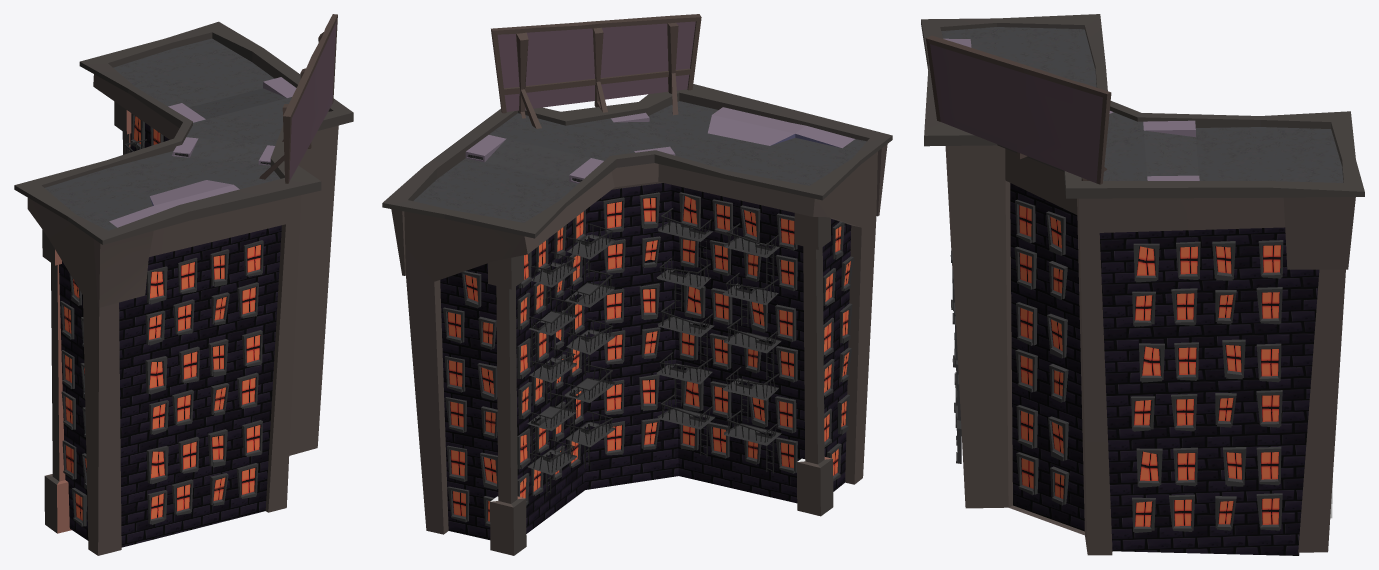
Rendered from hecks_kitchen_tile_nunchucks.fbx.
3 views of the same model, side by side, from view 1: azimuth 30°, elevation 25°; view 2: azimuth 150°, elevation 25°; view 3: azimuth 270°, elevation 25° (orthographic). The views are drawn at different scales.
Parts seen in each view (by area): view 1: hecks_kitchen_tile_nunchucks; view 2: hecks_kitchen_tile_nunchucks, Hecks_Kitchen_Tile_Nunchucks_FireEscapes; view 3: hecks_kitchen_tile_nunchucks.
Boxes of the visible parts, x1,y1,x2,y2 form: hecks_kitchen_tile_nunchucks: (14, 14, 353, 555); hecks_kitchen_tile_nunchucks: (382, 14, 892, 555); Hecks_Kitchen_Tile_Nunchucks_FireEscapes: (527, 178, 781, 496); hecks_kitchen_tile_nunchucks: (921, 14, 1364, 555).
Bounding box in the file's own units: 38.75 × 48.3 × 40.15.
Materials: 5 (3 with a texture image).
